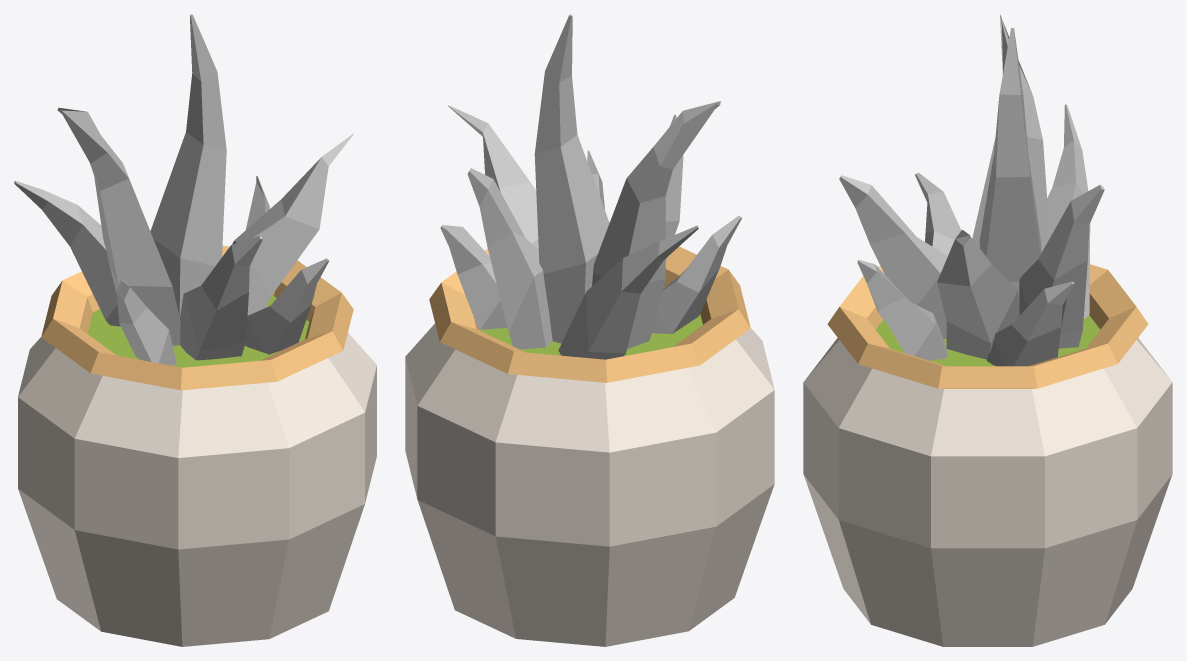
Rendered from pot (1).fbx.
3 renders of one model, left to right at view 1: azimuth 30°, elevation 25°; view 2: azimuth 150°, elevation 25°; view 3: azimuth 270°, elevation 25°, orthographic. The views are drawn at different scales.
Parts seen in each view (by area): view 1: Circle, grass tuft; view 2: Circle, grass tuft; view 3: Circle, grass tuft.
Boxes of the visible parts, x1,y1,x2,y2 form: Circle: (18,245,376,646); grass tuft: (14,14,353,365); Circle: (405,246,774,646); grass tuft: (440,14,741,359); Circle: (803,264,1172,646); grass tuft: (839,14,1104,366).
Size of the model in its own units: 237 by 421 by 250.
